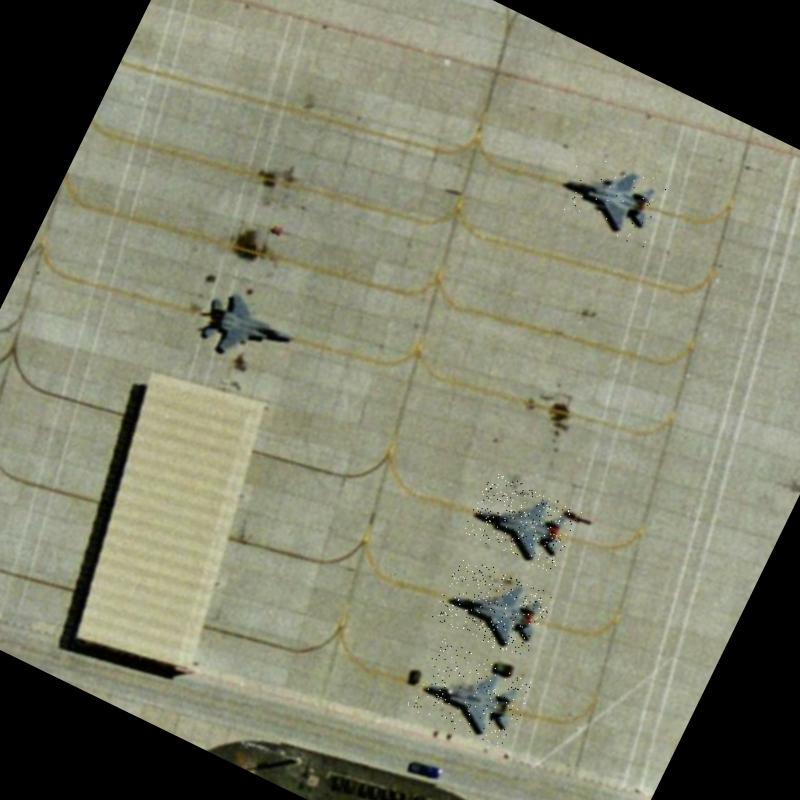A13: (404, 636, 536, 754), (183, 272, 308, 386), (430, 551, 555, 662), (548, 140, 674, 249), (462, 468, 582, 576)
